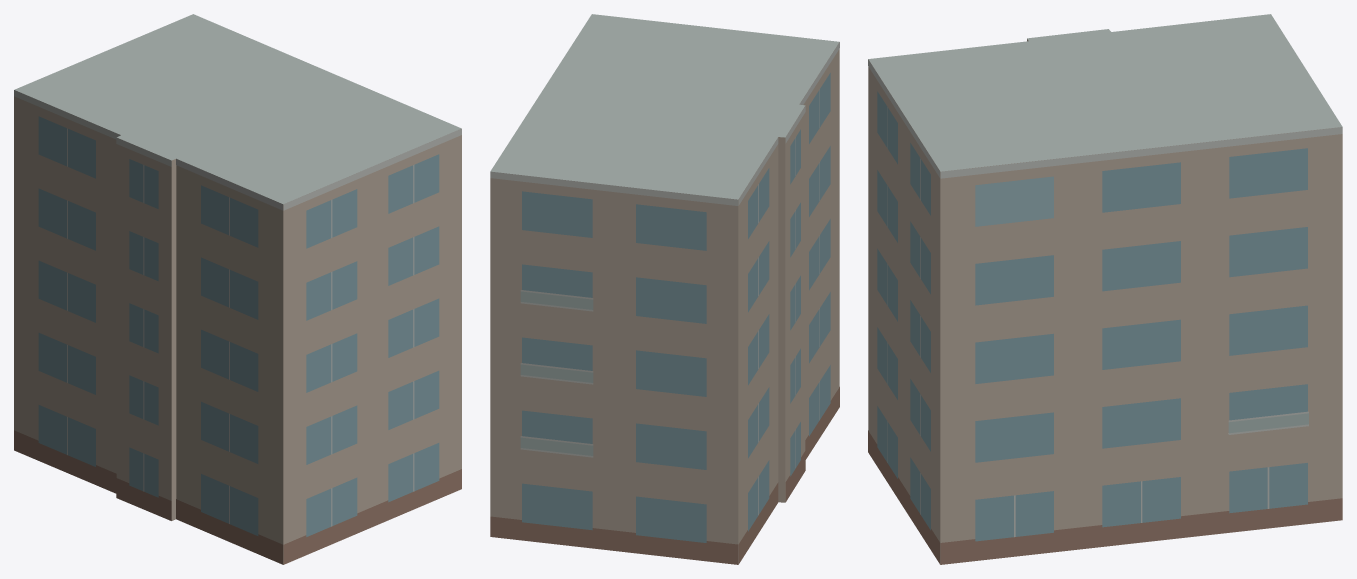
The model's file is survey-upis-32721323.glb.
The picture shows the model from 3 angles, left to right: view 1: azimuth 30°, elevation 25°; view 2: azimuth 150°, elevation 25°; view 3: azimuth 270°, elevation 25°; orthographic projection. The views are drawn at different scales.
Parts seen in each view (by area): view 1: survey-upis-32721323.tmp; view 2: survey-upis-32721323.tmp; view 3: survey-upis-32721323.tmp.
Part boxes in pixels (x1,y1,x2,y2): survey-upis-32721323.tmp: (14,14,461,564); survey-upis-32721323.tmp: (490,14,839,564); survey-upis-32721323.tmp: (868,14,1342,564).
Bounding box in the file's own units: 11.7 × 13.6 × 14.88.
